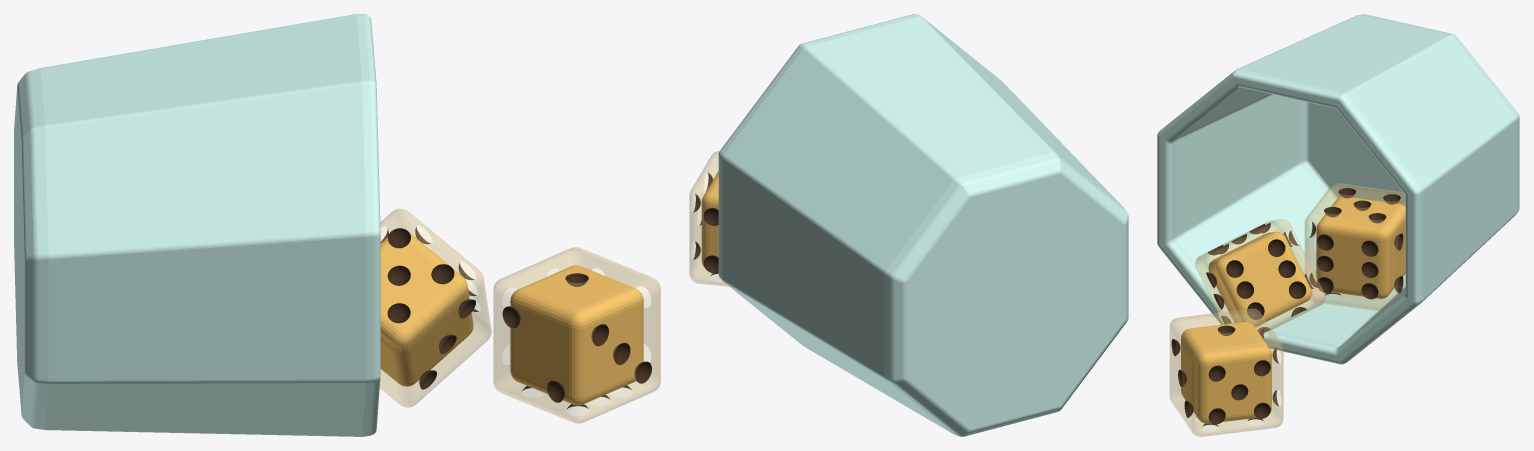
The model's file is random-bytes.glb.
3 views of the same model, side by side, from view 1: azimuth 30°, elevation 25°; view 2: azimuth 150°, elevation 25°; view 3: azimuth 270°, elevation 25° (orthographic). The views are drawn at different scales.
Visible parts, largest first — view 1: Tipped teal dice cup, Settled amber die, Tumbling amber die, Settled die honey core, Tumbling die honey core; view 2: Tipped teal dice cup, Settled amber die, Settled die honey core; view 3: Tipped teal dice cup, Settled amber die, Amber die inside cup, Tumbling amber die, Settled die honey core, Inside die honey core, Tumbling die honey core.
Part boxes in pixels (x1,y1,x2,y2): Tipped teal dice cup: (14,14,380,436); Settled amber die: (493,247,660,423); Tumbling amber die: (379,208,491,407); Settled die honey core: (510,265,643,405); Tumbling die honey core: (380,232,473,386); Tipped teal dice cup: (718,14,1128,436); Settled amber die: (689,150,729,286); Settled die honey core: (701,171,718,268); Tipped teal dice cup: (1157,14,1519,364); Settled amber die: (1169,308,1283,436); Amber die inside cup: (1304,183,1405,311); Tumbling amber die: (1195,219,1325,333); Settled die honey core: (1181,322,1271,423); Inside die honey core: (1316,196,1405,298); Tumbling die honey core: (1208,231,1311,326).
Bounding box in the file's own units: 4.43 × 2.68 × 3.26.
